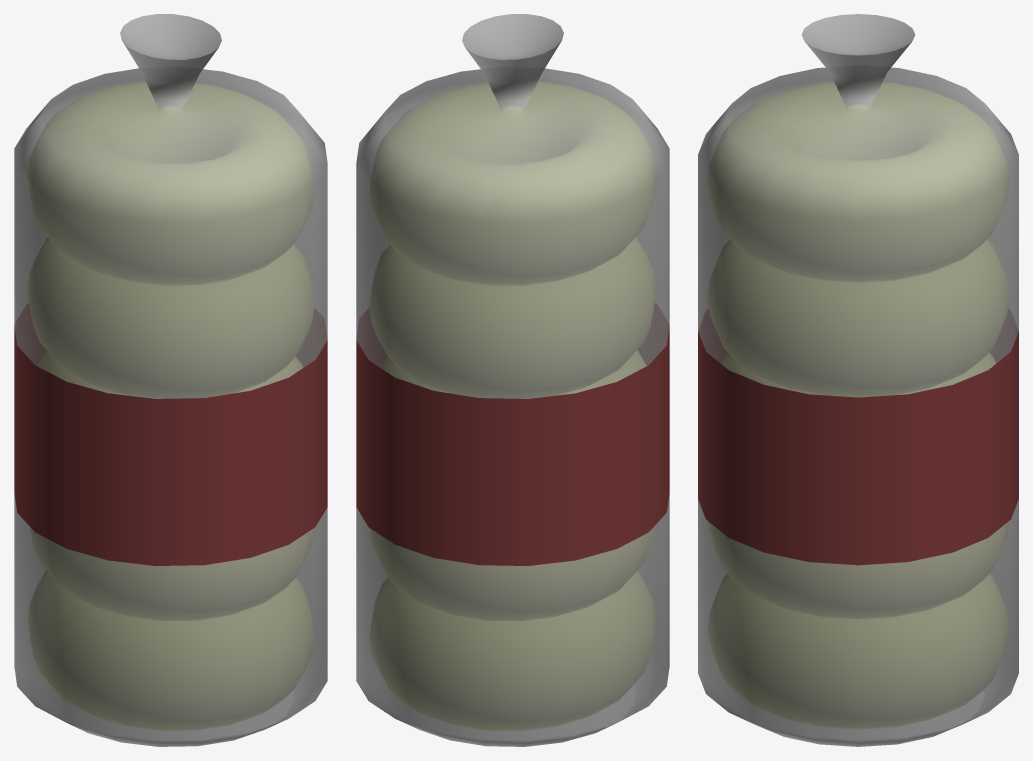
The model's file is bagels.fbx.
The picture shows the model from 3 angles, left to right: view 1: azimuth 30°, elevation 25°; view 2: azimuth 150°, elevation 25°; view 3: azimuth 270°, elevation 25°; orthographic projection.
Parts seen in each view (by area): view 1: pCylinder1, pTorus1, pTorus2, pTorus5, pTorus4, pTorus3; view 2: pCylinder1, pTorus1, pTorus2, pTorus5, pTorus4, pTorus3; view 3: pCylinder1, pTorus1, pTorus2, pTorus5, pTorus4, pTorus3.
Part boxes in pixels (left/top/right/bottom): pCylinder1: left=14, top=14, right=327, bottom=746; pTorus1: left=28, top=81, right=313, bottom=285; pTorus2: left=28, top=238, right=313, bottom=398; pTorus5: left=28, top=571, right=313, bottom=730; pTorus4: left=30, top=527, right=313, bottom=620; pTorus3: left=38, top=350, right=302, bottom=394; pCylinder1: left=356, top=14, right=669, bottom=746; pTorus1: left=370, top=81, right=655, bottom=285; pTorus2: left=370, top=238, right=655, bottom=398; pTorus5: left=370, top=571, right=655, bottom=730; pTorus4: left=370, top=527, right=653, bottom=620; pTorus3: left=381, top=350, right=645, bottom=394; pCylinder1: left=698, top=14, right=1018, bottom=746; pTorus1: left=708, top=82, right=1009, bottom=282; pTorus2: left=708, top=240, right=1009, bottom=397; pTorus5: left=708, top=574, right=1009, bottom=729; pTorus4: left=708, top=522, right=1008, bottom=618; pTorus3: left=721, top=353, right=995, bottom=394.
Size of the model in its own units: 2.46 by 5.7 by 2.51.
